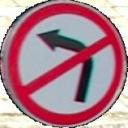NoVirarEsquerda: (10, 3, 124, 125)
